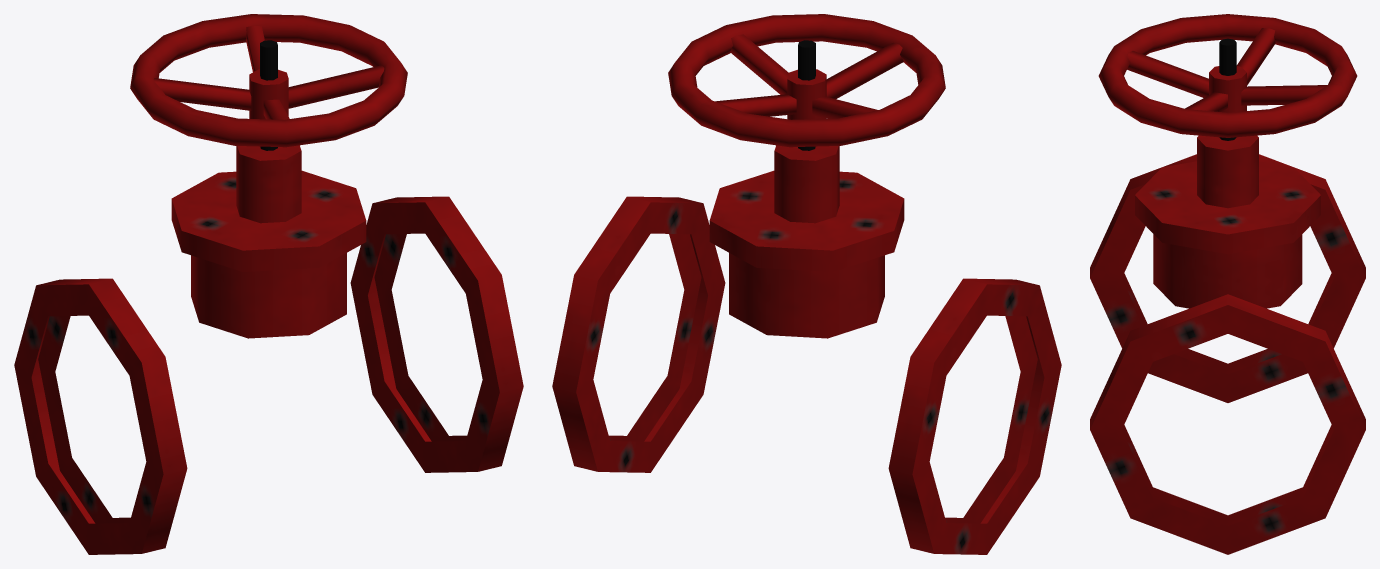
File: ValveBig.FBX
The picture shows the model from 3 angles, left to right: view 1: azimuth 30°, elevation 25°; view 2: azimuth 150°, elevation 25°; view 3: azimuth 270°, elevation 25°; orthographic projection. The views are drawn at different scales.
Visible parts, largest first — view 1: ValveBig; view 2: ValveBig; view 3: ValveBig.
Boxes of the visible parts, x1,y1,x2,y2 form: ValveBig: (14,14,523,554); ValveBig: (552,14,1061,554); ValveBig: (1090,14,1365,554).
Bounding box in the file's own units: 7.13 × 8.83 × 5.12.
